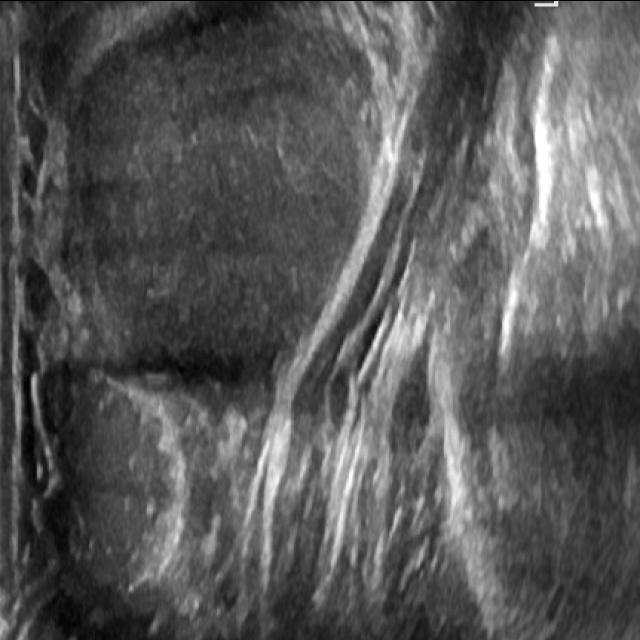Benign: (61, 26, 370, 347)
